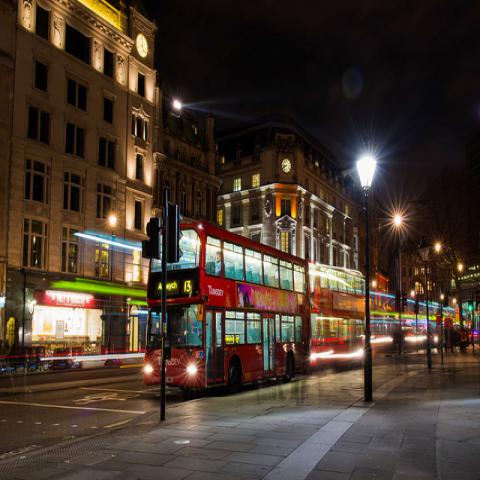bus: (145, 220, 314, 394)
